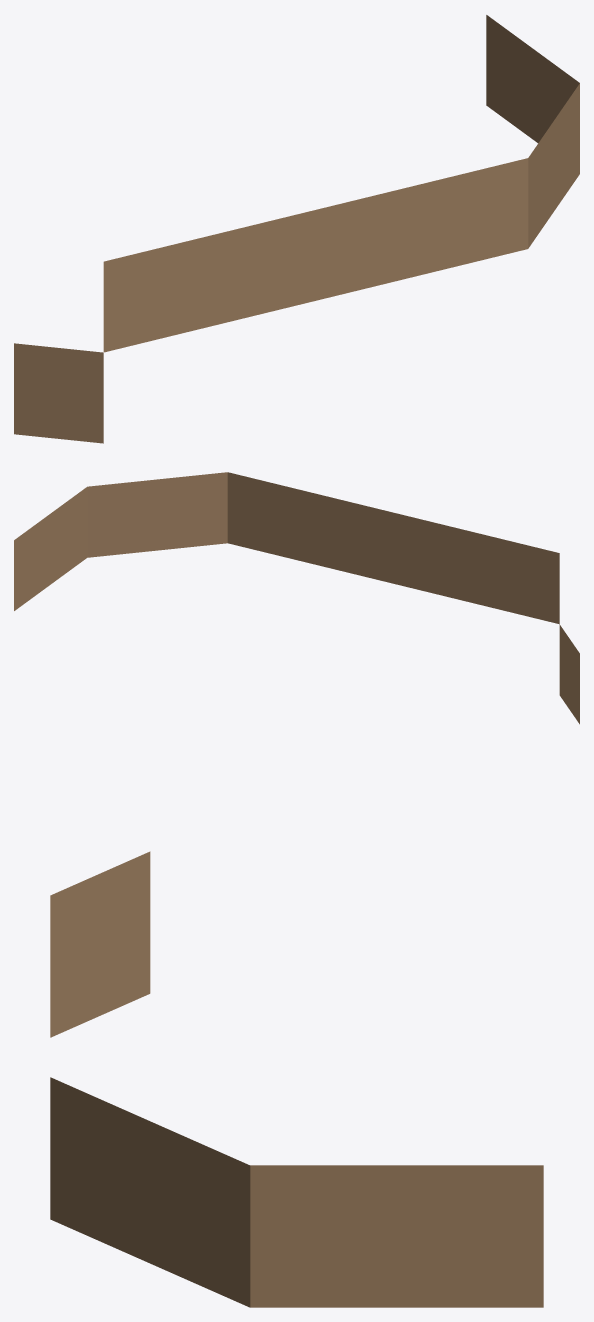
Rendered from 1386-Buildings-shell-pieces-facade-bay-wall-round-an-opening-reveals-sill-head-emitBa.glb.
3 views of the same model, one above another, from view 1: azimuth 30°, elevation 25°; view 2: azimuth 150°, elevation 25°; view 3: azimuth 270°, elevation 25° (orthographic). The views are drawn at different scales.
Visible parts, largest first — view 1: emitBay; view 2: emitBay; view 3: emitBay.
Boxes of the visible parts, <box> form: emitBay: <box>14,15,579,443</box>; emitBay: <box>14,472,579,724</box>; emitBay: <box>50,851,543,1307</box>.
Bounding box in the file's own units: 20.97 × 6.1 × 9.58.
